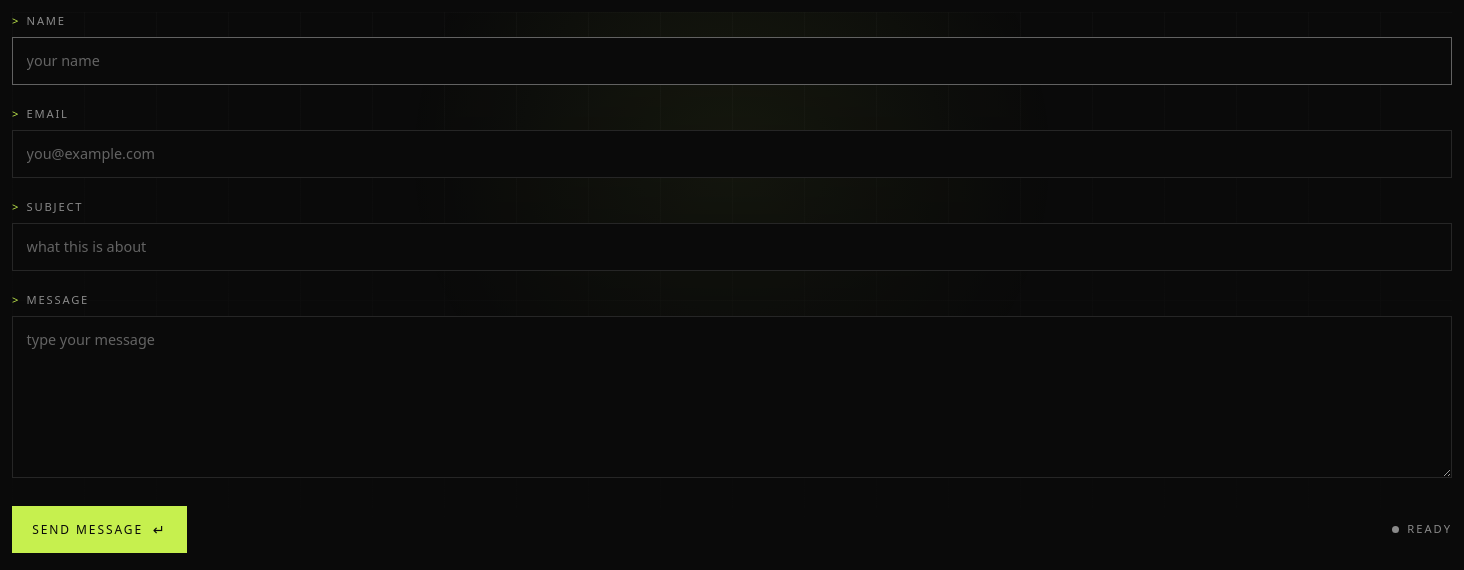
Scenario: ContactForm › shows success and resets after delivery
In the field labelled "Name": (732,61) x1=12 y1=37 x2=1452 y2=85, type "Ashik Miah"
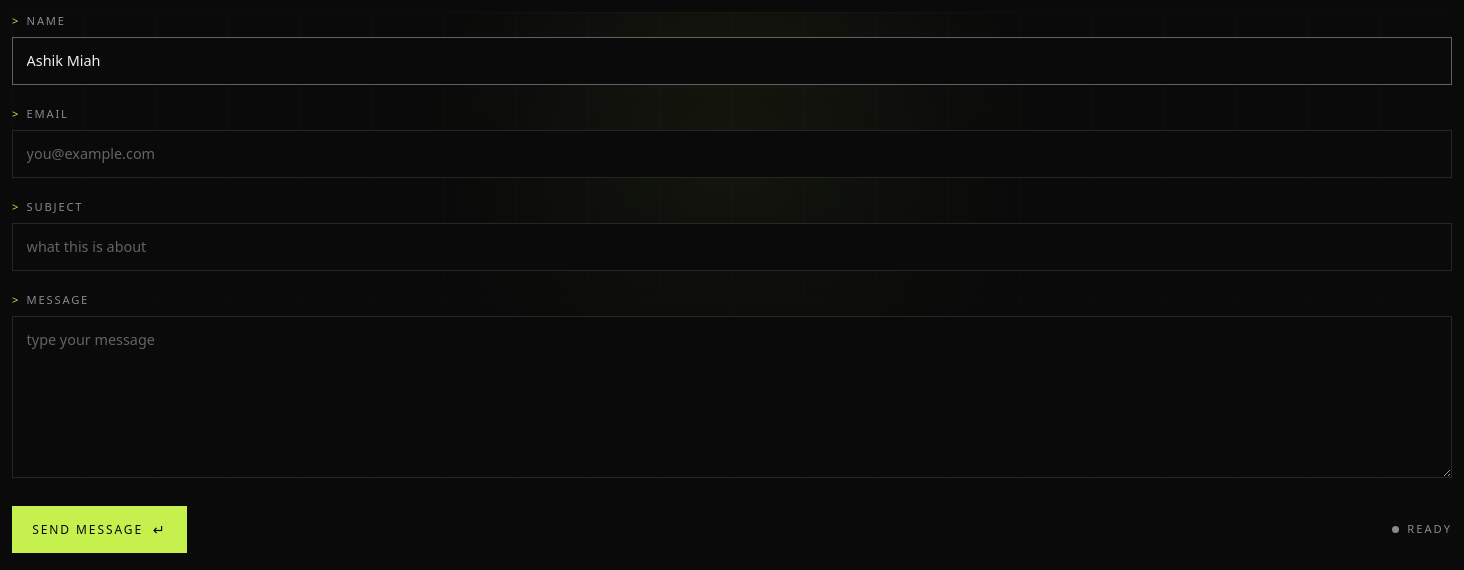
In the field labelled "Email": (732,154) x1=12 y1=130 x2=1452 y2=178, type "sender@example.com"
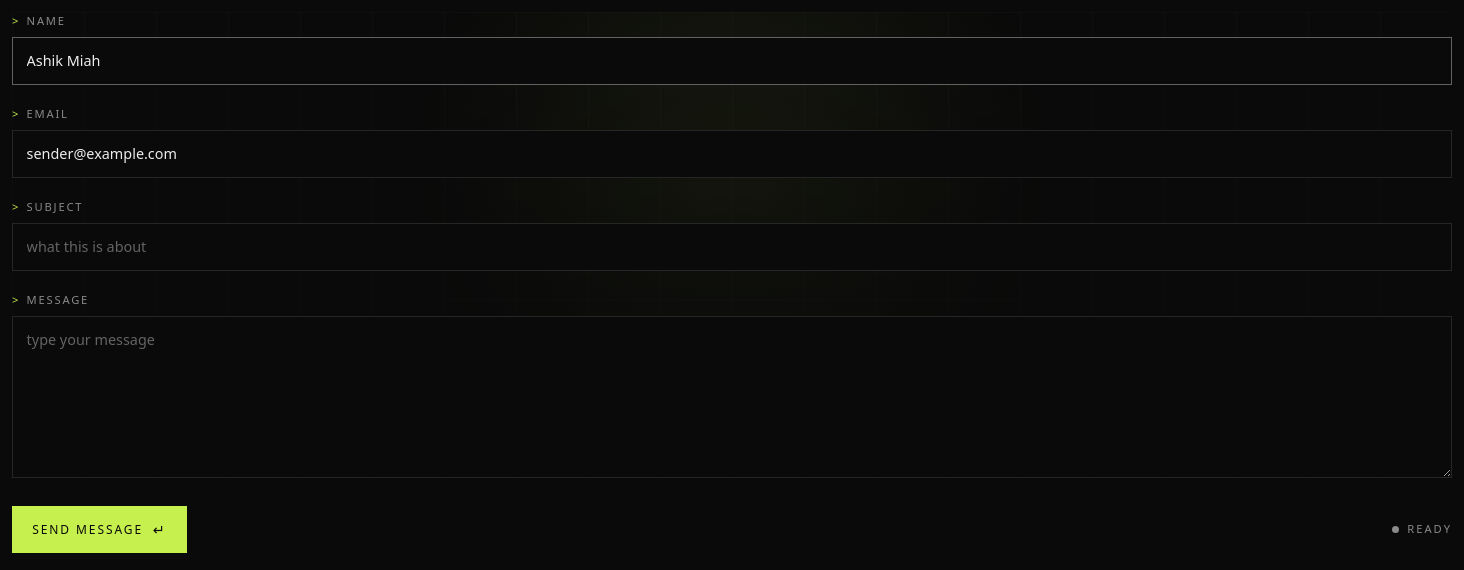
In the field labelled "Subject": (732,247) x1=12 y1=223 x2=1452 y2=271, type "Portfolio inquiry"
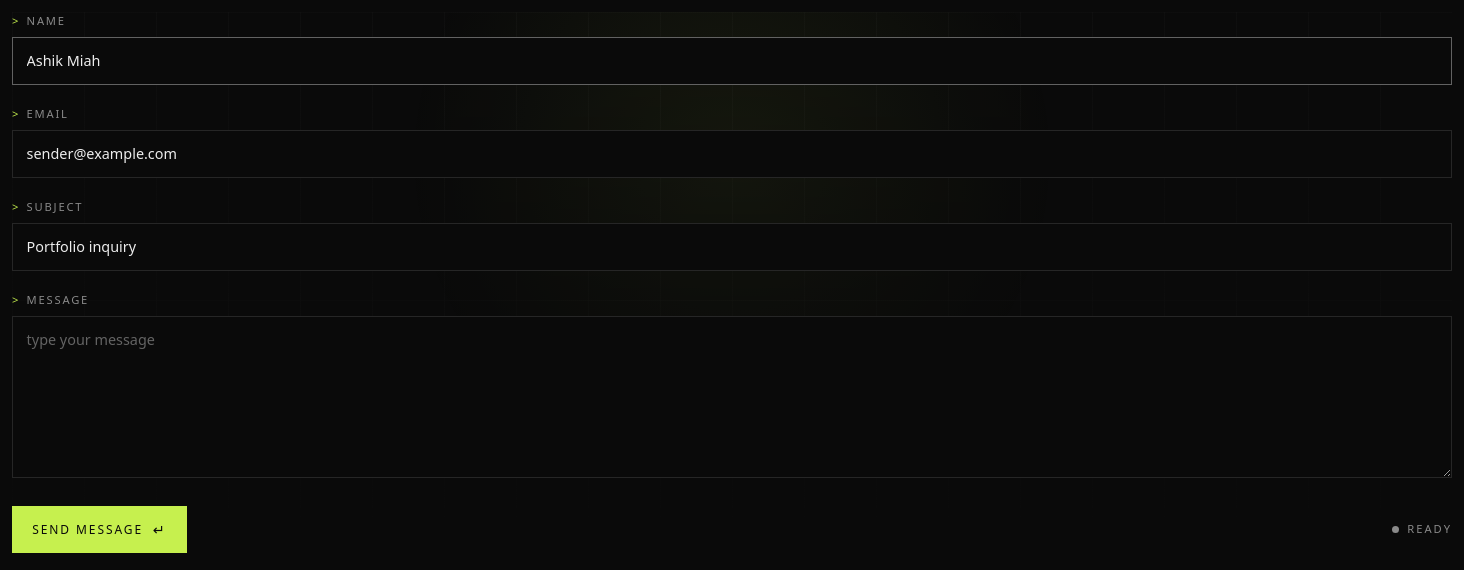
In the text box labelled "Message": (732,397) x1=12 y1=316 x2=1452 y2=478, type "This is a sufficiently long contact message."
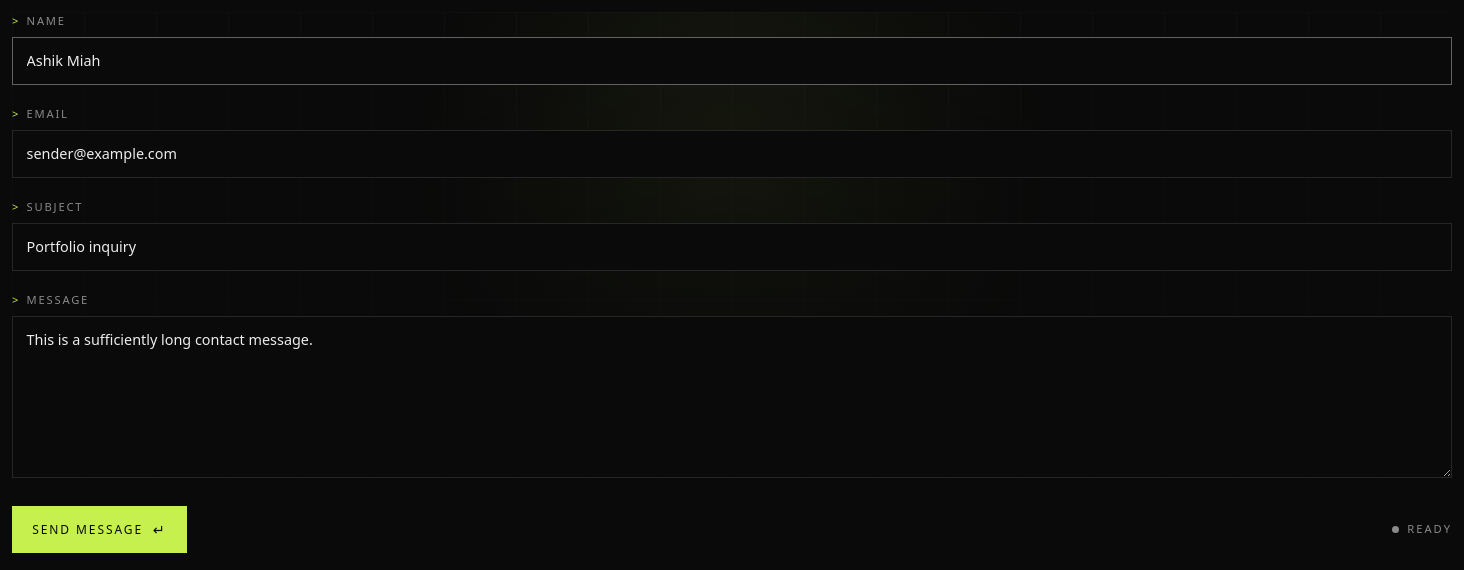
Click the button "Send message ↵": (99,530) x1=12 y1=506 x2=187 y2=553
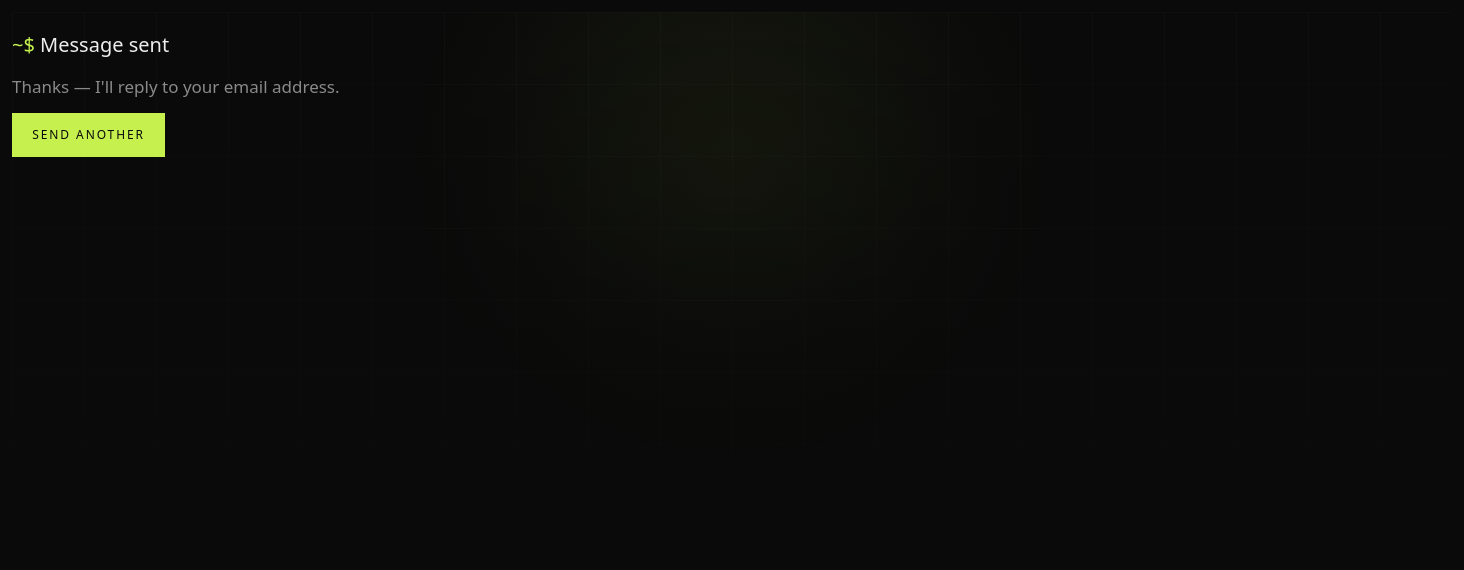
Check: the text "Message sent" is shown, box x1=40 y1=31 x2=169 y2=58
